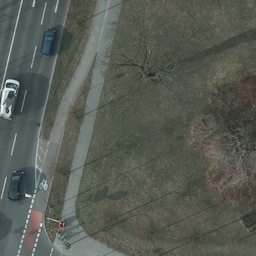car: (38, 30, 55, 59), (9, 169, 23, 202)
